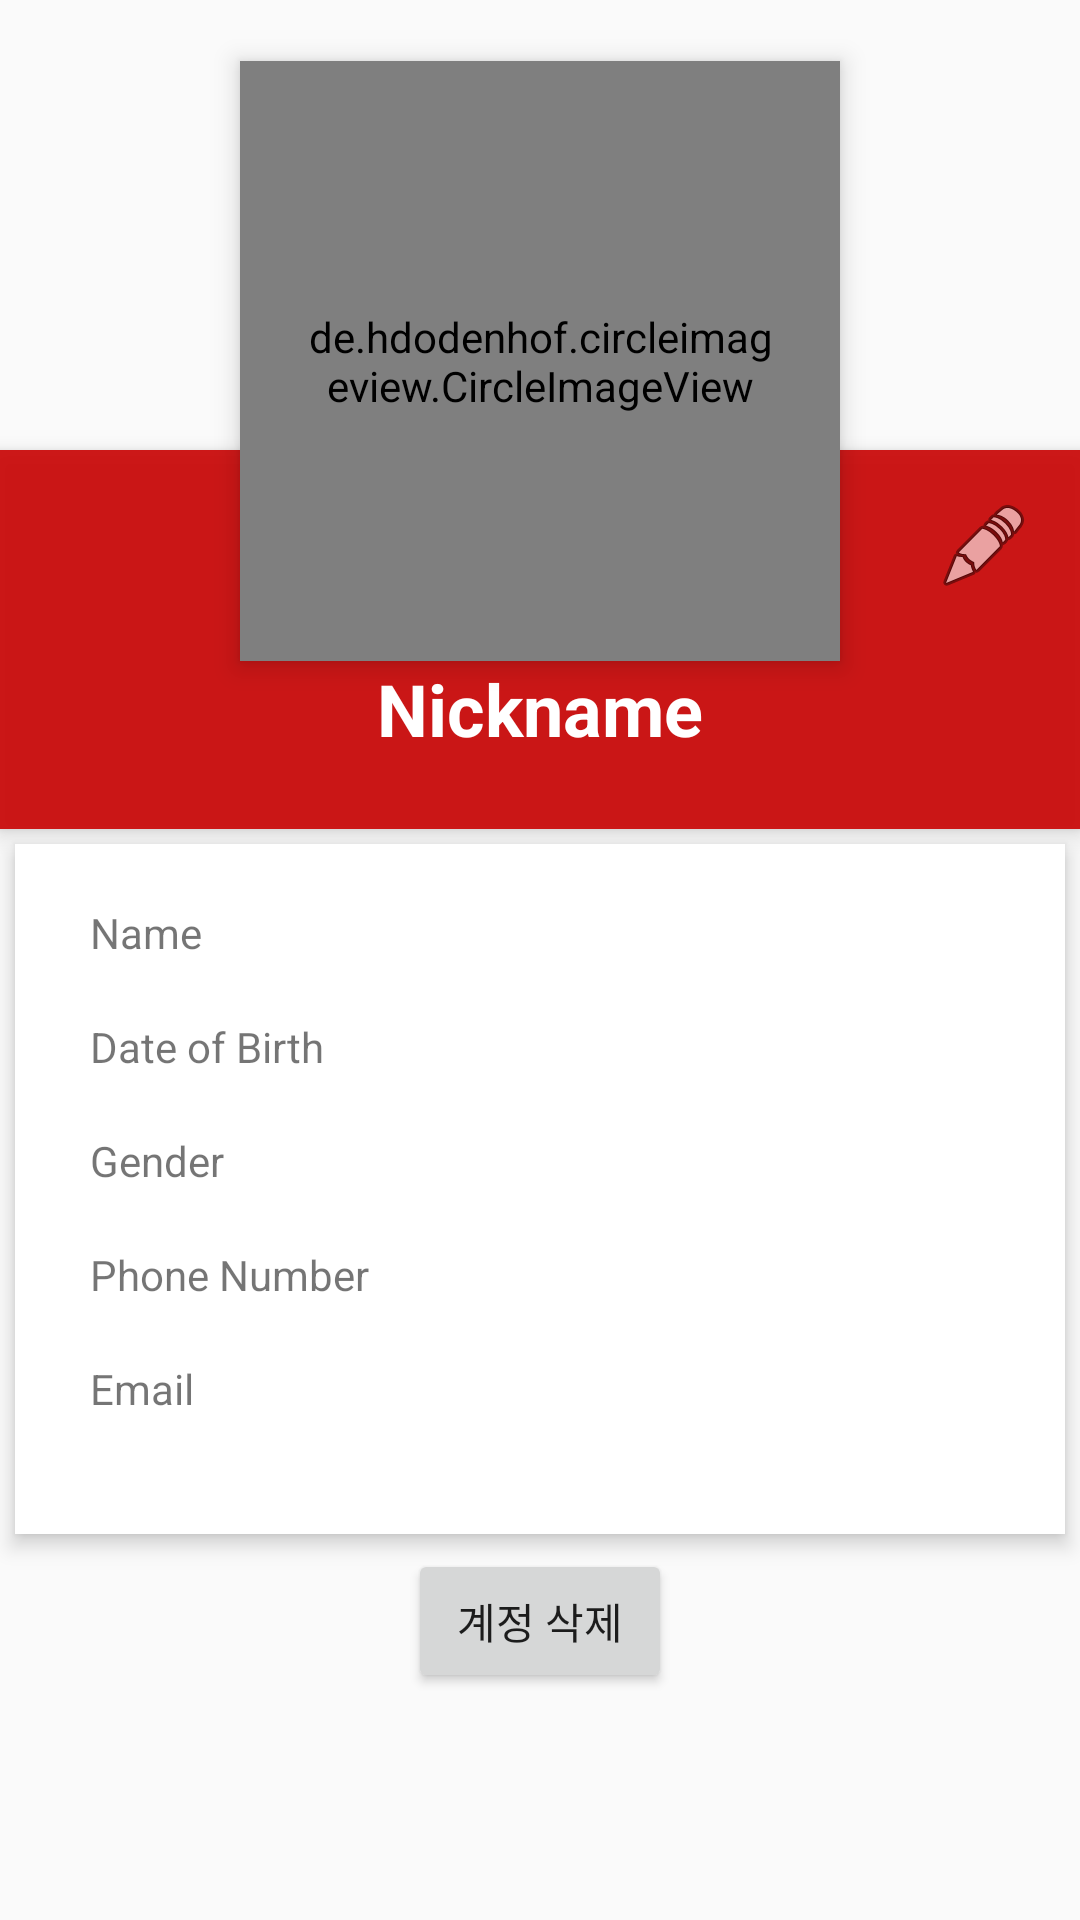

Locate icon controls on the screen. Image size 1080px x 1920px, boxes as (x1, y1, x2, y2).
edit: (943, 505, 1024, 586)
